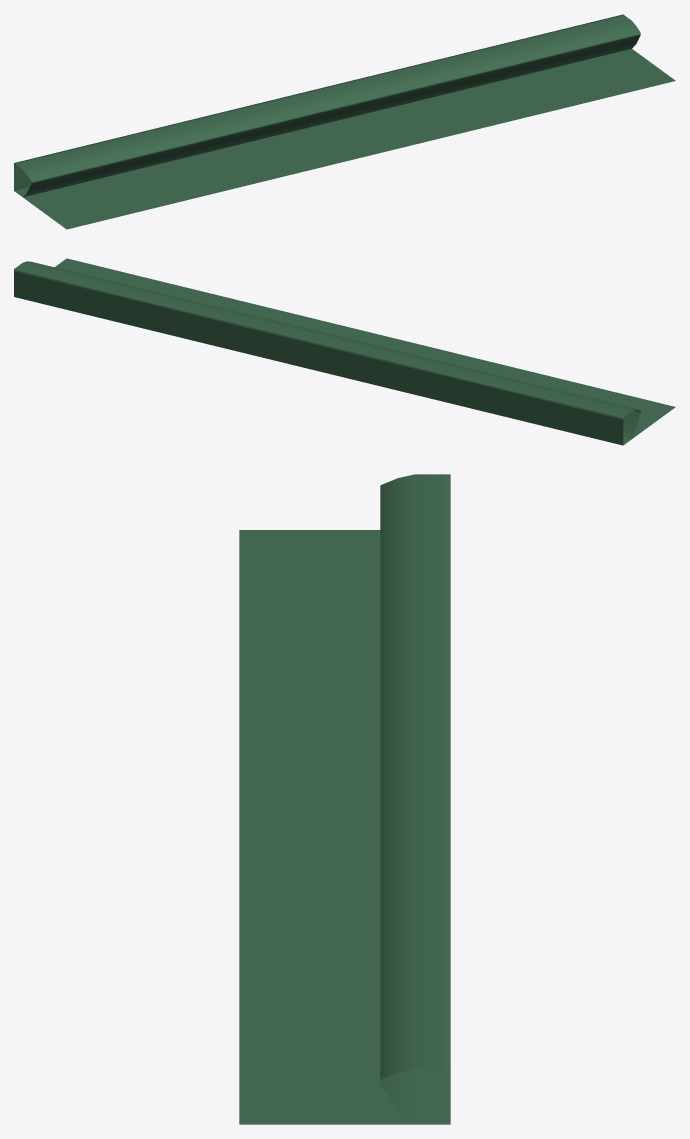
File: table_cushion_straight_a.fbx
3 views of the same model, one above another, from view 1: azimuth 30°, elevation 25°; view 2: azimuth 150°, elevation 25°; view 3: azimuth 270°, elevation 25° (orthographic). The views are drawn at different scales.
Parts seen in each view (by area): view 1: lod0; view 2: lod0; view 3: lod0.
Boxes of the visible parts, x1,y1,x2,y2 form: lod0: (14, 14, 675, 229); lod0: (14, 258, 675, 445); lod0: (239, 474, 450, 1124).
Size of the model in its own units: 40 by 1.75 by 6.
